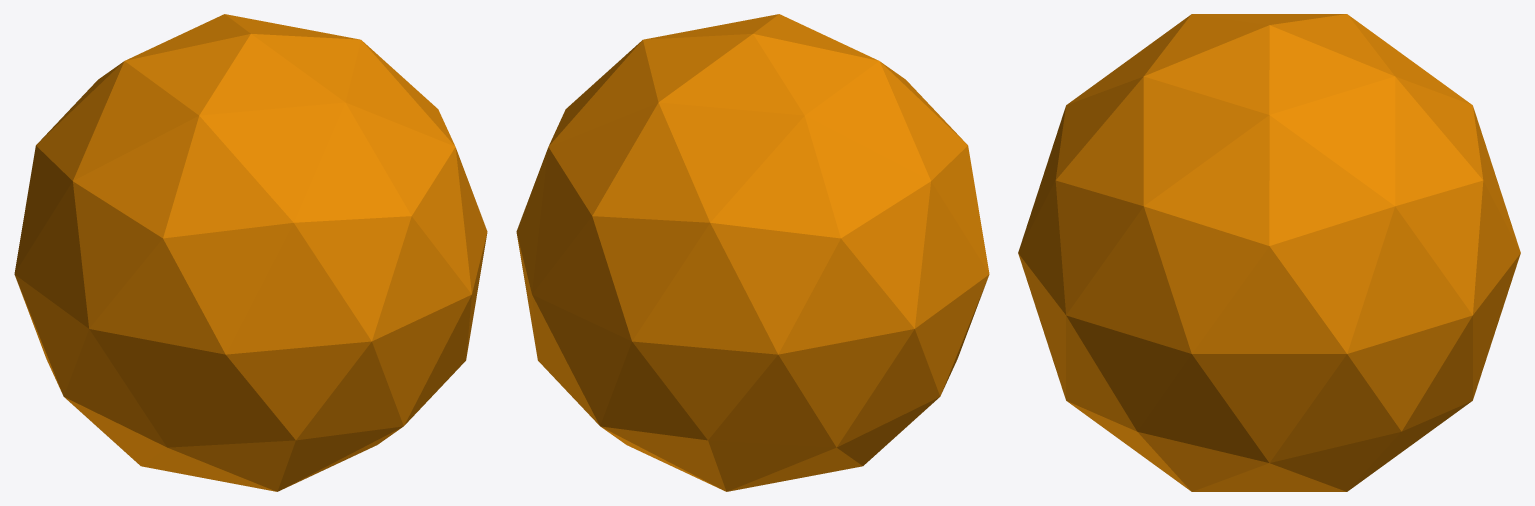
Rendered from sun2.dae.
The picture shows the model from 3 angles, left to right: view 1: azimuth 30°, elevation 25°; view 2: azimuth 150°, elevation 25°; view 3: azimuth 270°, elevation 25°; orthographic projection. The views are drawn at different scales.
Visible parts, largest first — view 1: Icosphere; view 2: Icosphere; view 3: Icosphere.
Boxes of the visible parts, x1,y1,x2,y2 form: Icosphere: [14, 14, 487, 491]; Icosphere: [516, 14, 989, 491]; Icosphere: [1018, 14, 1520, 491].
Bounding box in the file's own units: 32.25 × 33.91 × 33.91.
